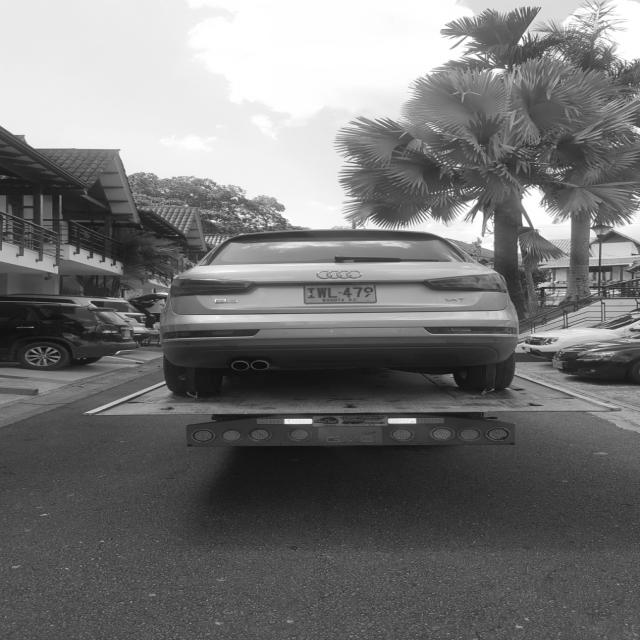plate: (296, 277, 386, 306)
